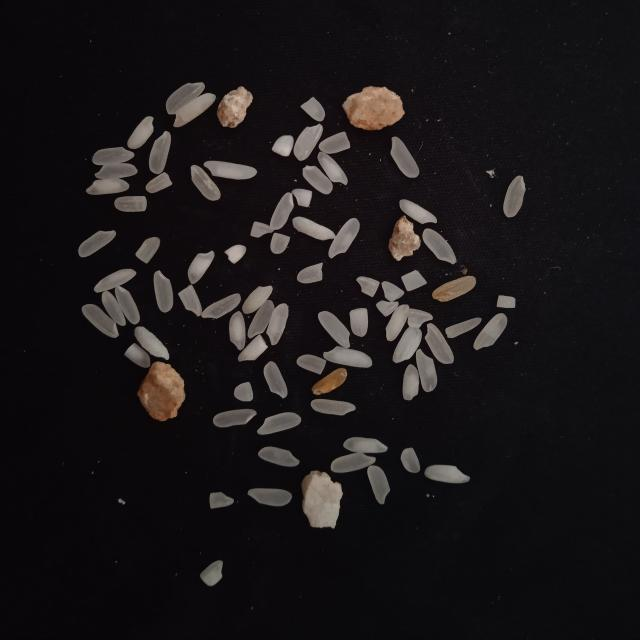Broken: (432, 276, 476, 302), (312, 368, 348, 396), (302, 165, 333, 195), (238, 334, 268, 362), (318, 131, 352, 154), (178, 285, 202, 317), (446, 317, 482, 338), (300, 96, 326, 122), (296, 354, 327, 375), (124, 343, 150, 368), (136, 237, 160, 264), (200, 560, 223, 586), (297, 262, 323, 284), (401, 270, 427, 292), (349, 308, 368, 337), (146, 172, 172, 193), (356, 276, 380, 298), (400, 447, 420, 473), (115, 196, 147, 212), (408, 308, 433, 328), (272, 135, 294, 157), (382, 281, 404, 302), (224, 244, 247, 264), (270, 232, 290, 255), (209, 492, 234, 509), (234, 382, 254, 402), (250, 221, 273, 238), (376, 300, 399, 317), (292, 189, 312, 207), (496, 295, 516, 308)
Full: (173, 93, 216, 128), (328, 218, 360, 259), (422, 228, 457, 265), (473, 313, 508, 350), (82, 304, 119, 338), (166, 82, 205, 114), (390, 136, 419, 178), (134, 326, 169, 360), (425, 323, 454, 364), (318, 311, 350, 348), (294, 124, 324, 162), (393, 326, 422, 364), (323, 346, 373, 368), (191, 165, 221, 201), (78, 230, 116, 258), (256, 412, 302, 435), (317, 152, 348, 186), (115, 285, 141, 325), (201, 293, 241, 319), (94, 269, 137, 293), (204, 161, 258, 180), (248, 300, 274, 339), (292, 217, 336, 240), (266, 303, 289, 346), (503, 175, 526, 218), (187, 250, 215, 284), (263, 361, 288, 399), (399, 199, 437, 224), (149, 131, 171, 174), (331, 452, 376, 473), (270, 192, 294, 231), (416, 348, 437, 392), (242, 285, 273, 314), (367, 465, 390, 504), (127, 116, 154, 149), (213, 408, 257, 428), (154, 270, 174, 313), (102, 291, 126, 326), (258, 446, 300, 466), (310, 398, 356, 416), (425, 465, 470, 483), (248, 488, 292, 506), (92, 147, 135, 165), (86, 178, 130, 195), (343, 437, 388, 453), (94, 163, 138, 179), (229, 310, 246, 350), (403, 364, 419, 401)
